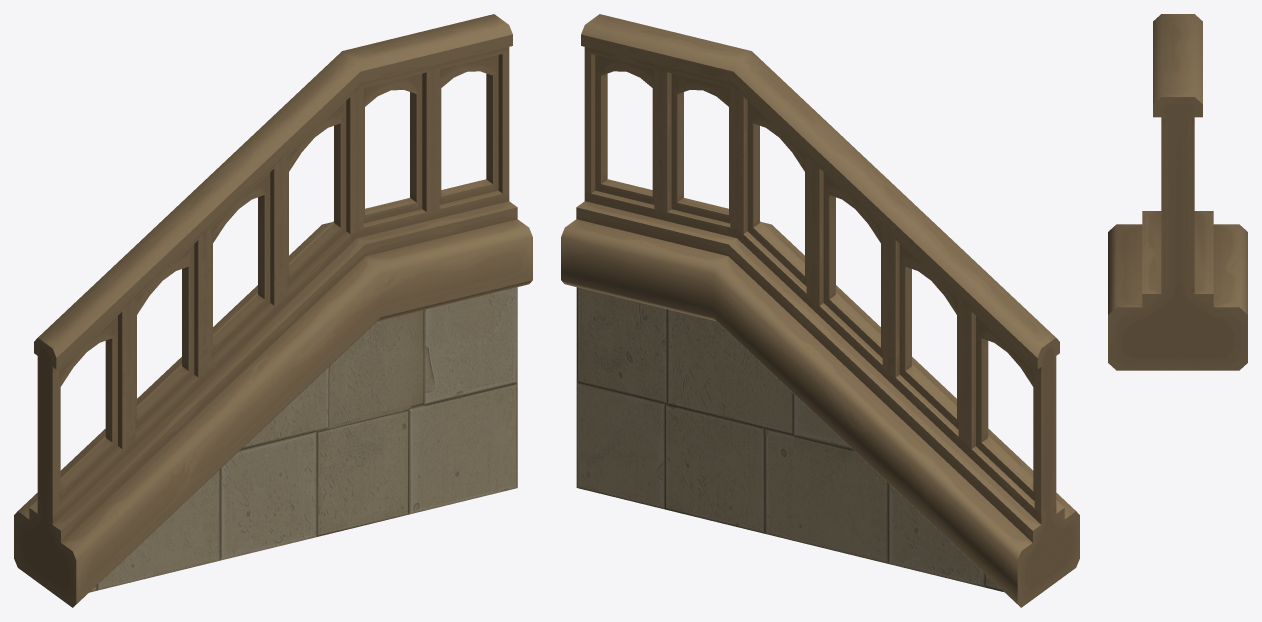
The model's file is ARC0510074.fbx.
3 views of the same model, side by side, from view 1: azimuth 30°, elevation 25°; view 2: azimuth 150°, elevation 25°; view 3: azimuth 270°, elevation 25° (orthographic). The views are drawn at different scales.
Parts seen in each view (by area): view 1: smARC0510074; view 2: smARC0510074; view 3: smARC0510074.
Part boxes in pixels (x1,y1,x2,y2): smARC0510074: (14,14,532,607); smARC0510074: (561,14,1079,607); smARC0510074: (1108,14,1247,370).
Size of the model in its own units: 169 by 161 by 40.
Materials: 1 (1 with a texture image).
